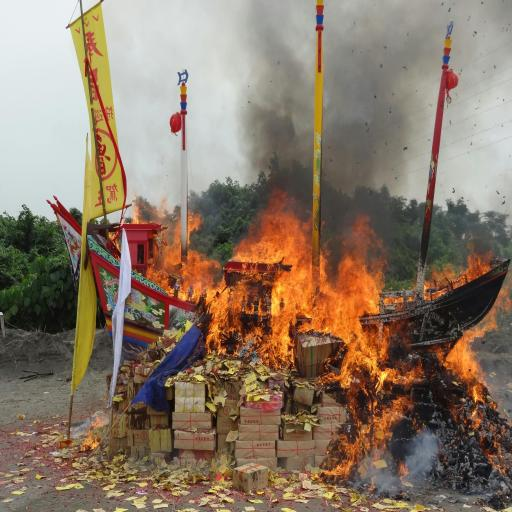fire: (3, 100, 512, 433)
